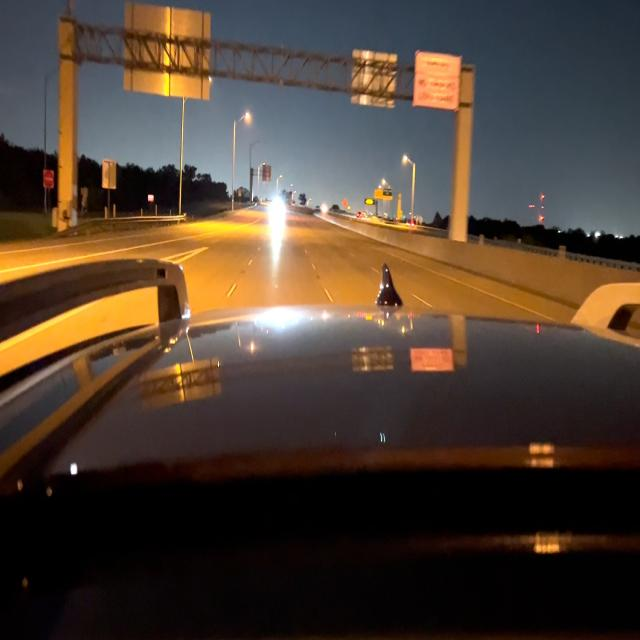back-of-sign: (125, 3, 212, 103), (353, 49, 398, 108)
